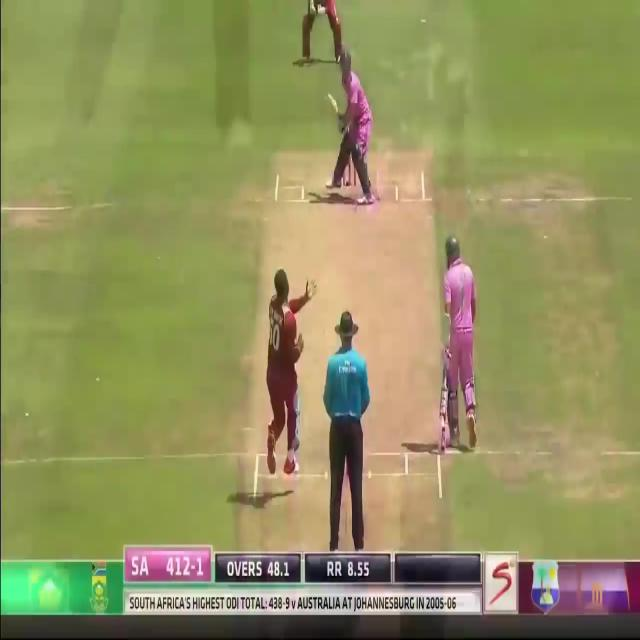Ball: (438, 237, 478, 451), (331, 49, 375, 202)
Fielder: (263, 268, 304, 478), (300, 0, 336, 65)
Umpire: (324, 311, 370, 548)
